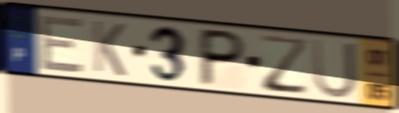3: (147, 23, 192, 86)
E: (39, 14, 87, 75)
K: (90, 18, 128, 79)
P: (196, 26, 248, 89)
U: (310, 36, 359, 101)
Z: (257, 32, 310, 98)
